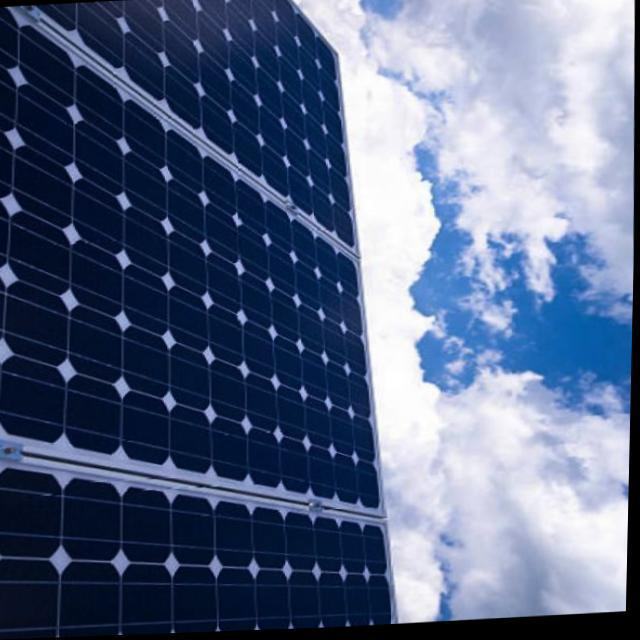Normal Solar Panel: (0, 0, 397, 537), (0, 0, 366, 271), (0, 434, 406, 640)
